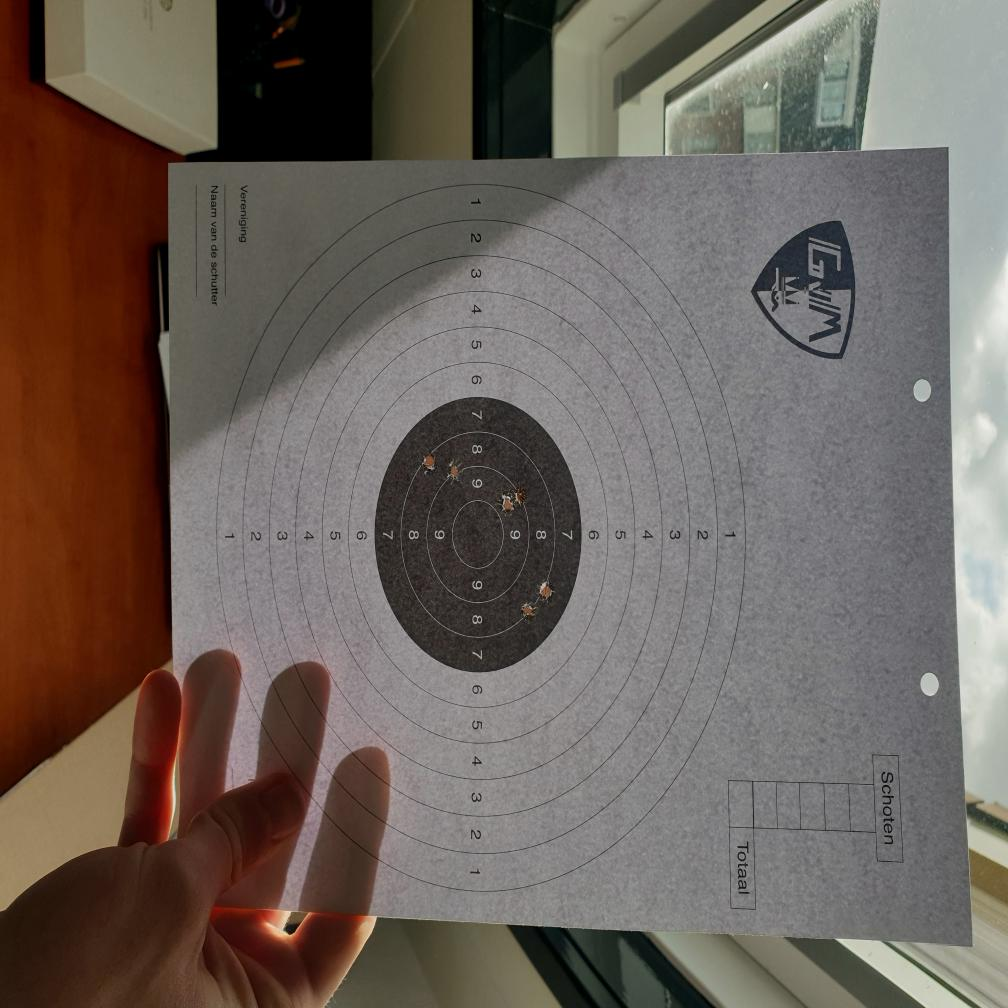8: (538, 579, 555, 602), (520, 601, 538, 622), (422, 453, 438, 476)
9: (446, 461, 463, 485), (499, 492, 515, 517), (513, 483, 529, 508)
Target: (212, 181, 748, 900)
black_contour: (375, 398, 581, 672)
